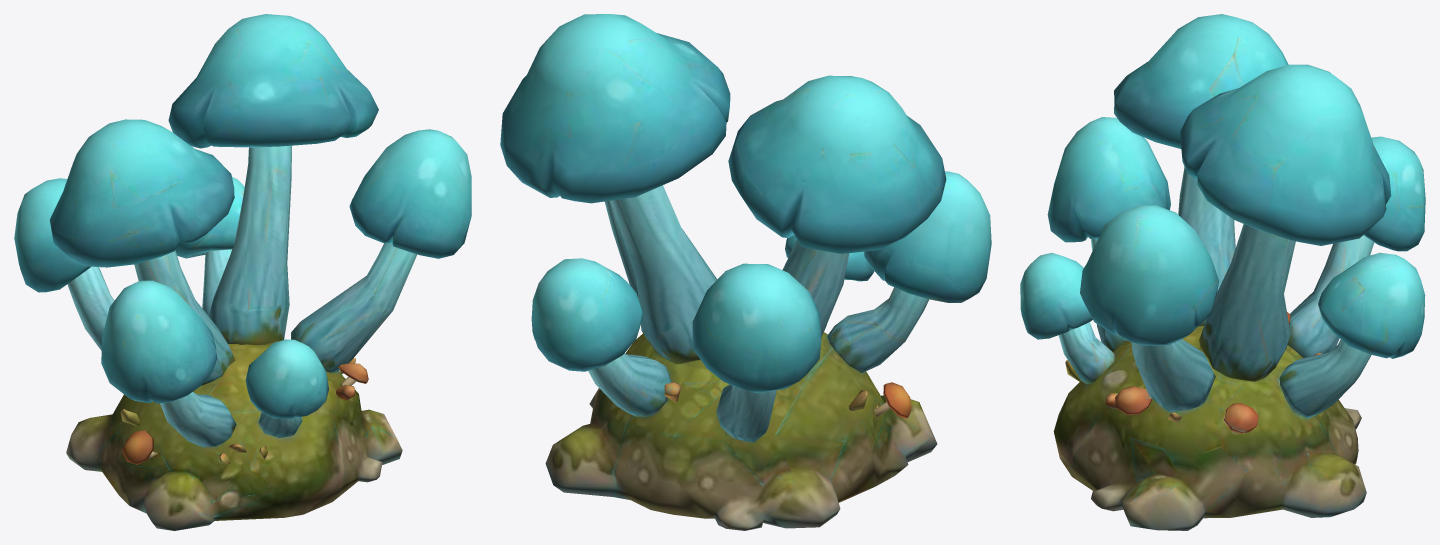
The model's file is flora-mushrooms.glb.
3 renders of one model, left to right at view 1: azimuth 30°, elevation 25°; view 2: azimuth 150°, elevation 25°; view 3: azimuth 270°, elevation 25°, orthographic. The views are drawn at different scales.
Bounding box in the file's own units: 0.983 × 1 × 0.8575.
Materials: 1 (1 with a texture image).
